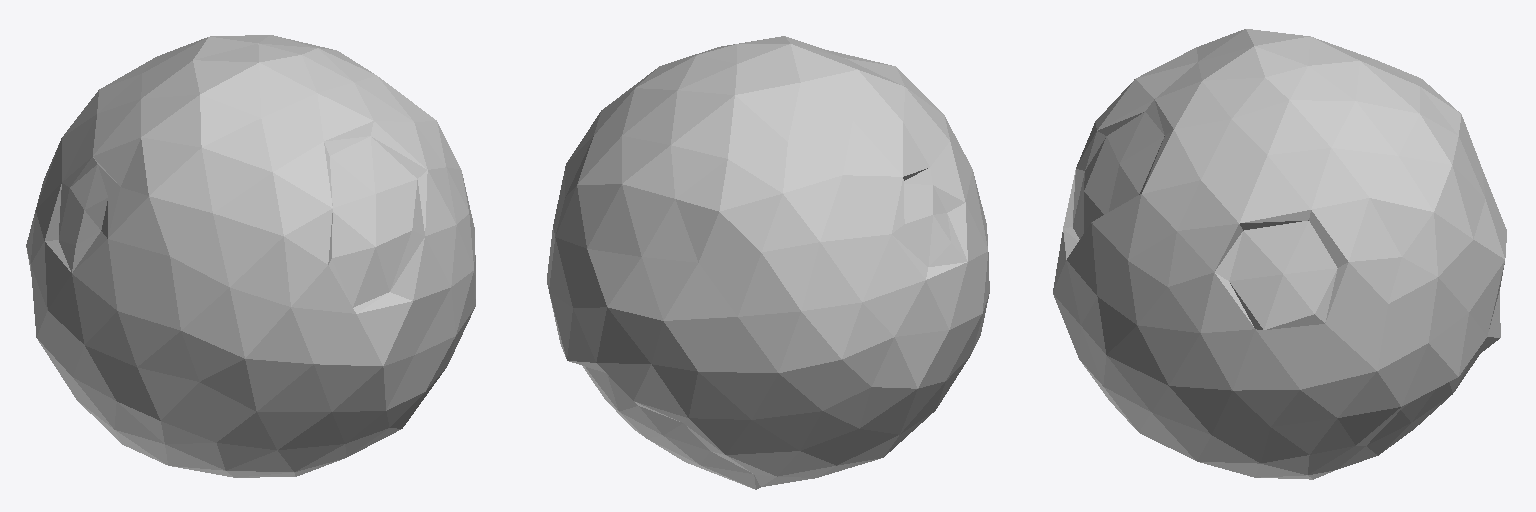
File: mars.obj
3 views of the same model, side by side, from view 1: azimuth 30°, elevation 25°; view 2: azimuth 150°, elevation 25°; view 3: azimuth 270°, elevation 25° (orthographic).
Parts seen in each view (by area): view 1: Mars; view 2: Mars; view 3: Mars.
Boxes of the visible parts, <box> form: Mars: <box>26,35,475,477</box>; Mars: <box>547,36,989,489</box>; Mars: <box>1053,29,1506,479</box>.
Bounding box in the file's own units: 1.09 × 1.09 × 1.1.